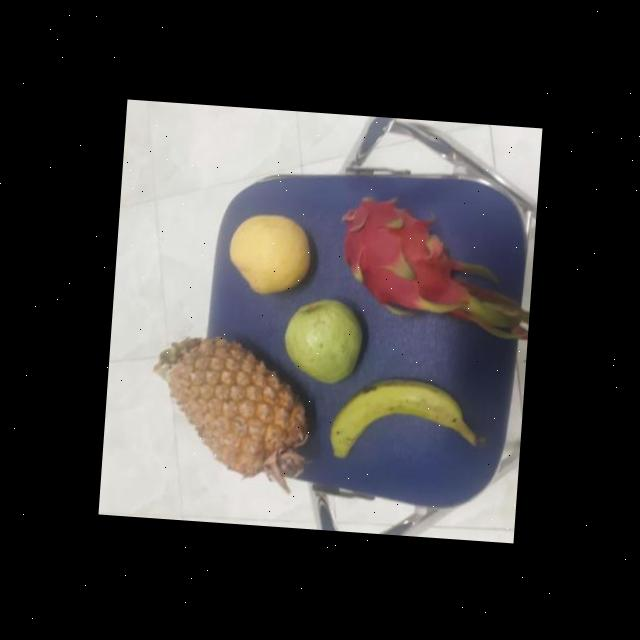banana: (327, 371, 470, 465)
guava: (282, 291, 363, 384)
pear: (222, 205, 316, 298)
pineapple: (153, 327, 314, 482)
pitaya: (338, 186, 478, 322)
